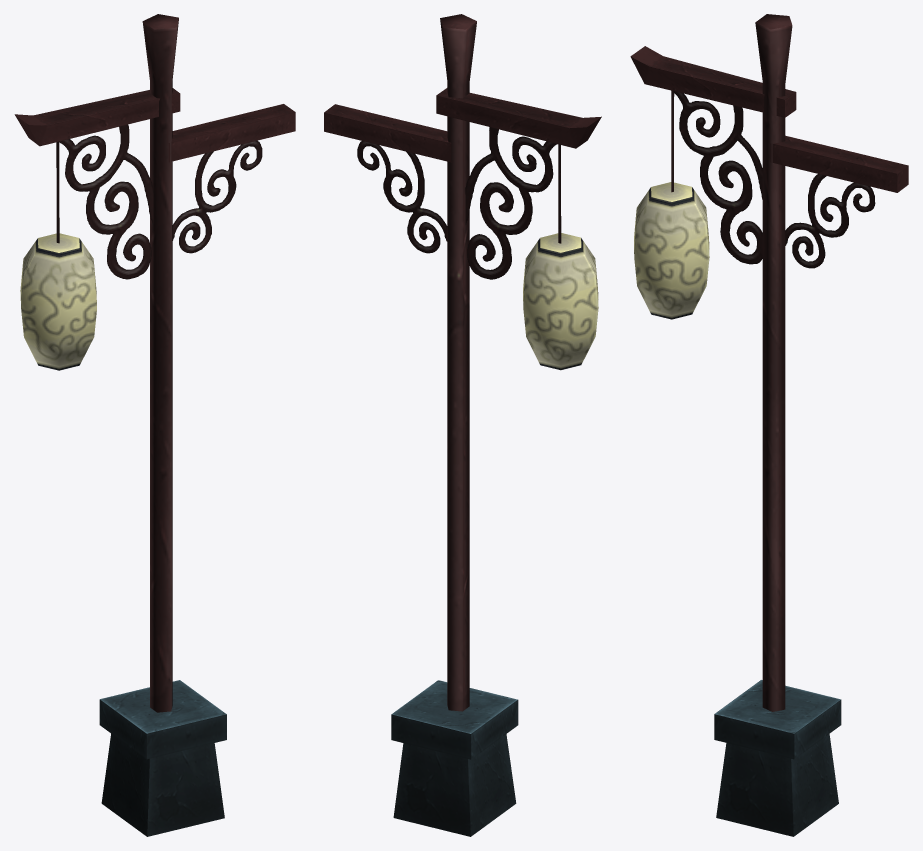
File: guideng.FBX
3 views of the same model, side by side, from view 1: azimuth 30°, elevation 25°; view 2: azimuth 150°, elevation 25°; view 3: azimuth 330°, elevation 25° (orthographic).
Visible parts, largest first — view 1: guideng; view 2: guideng; view 3: guideng.
Boxes of the visible parts, left/top/right/bottom form: guideng: left=14, top=14, right=295, bottom=836; guideng: left=324, top=14, right=601, bottom=836; guideng: left=630, top=14, right=908, bottom=836.
Bounding box in the file's own units: 670 × 204 × 1880.
